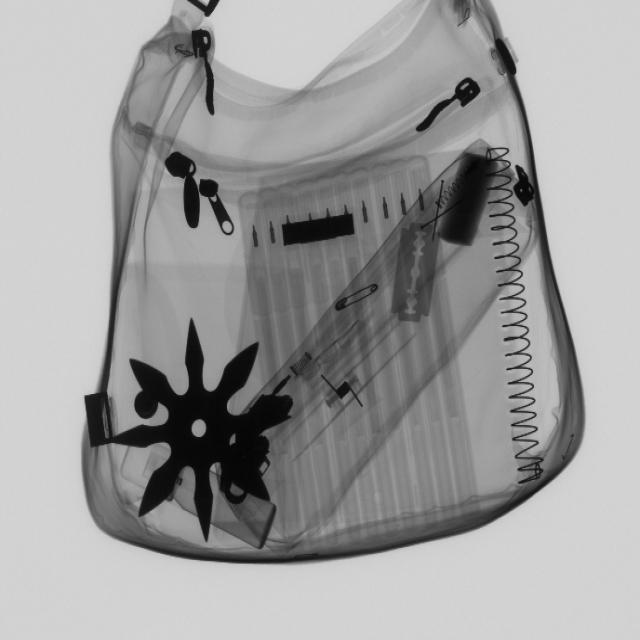BLADE: (387, 209, 444, 331)
SHURIKEN: (113, 316, 286, 545)
